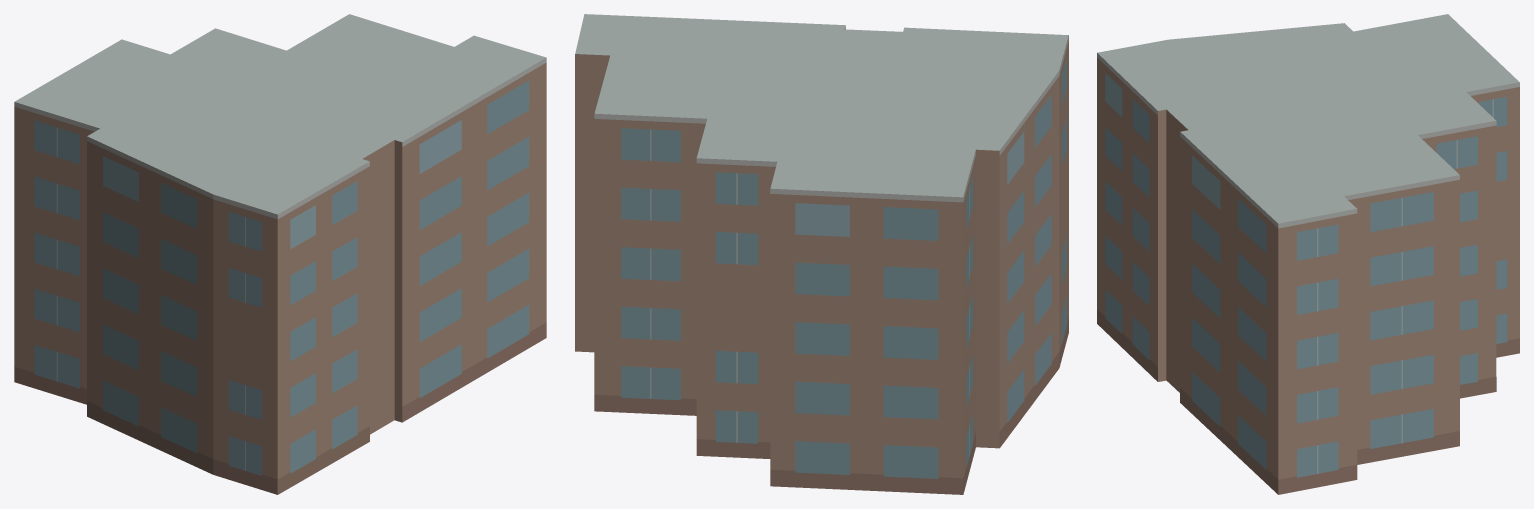
File: survey-upis-32934958.glb
3 views of the same model, side by side, from view 1: azimuth 30°, elevation 25°; view 2: azimuth 150°, elevation 25°; view 3: azimuth 270°, elevation 25° (orthographic). The views are drawn at different scales.
Visible parts, largest first — view 1: survey-upis-32934958.tmp; view 2: survey-upis-32934958.tmp; view 3: survey-upis-32934958.tmp.
Boxes of the visible parts, x1,y1,x2,y2 form: survey-upis-32934958.tmp: (14,14,546,494); survey-upis-32934958.tmp: (575,14,1068,494); survey-upis-32934958.tmp: (1097,14,1519,494).
Size of the model in its own units: 23.58 by 14.2 by 20.08.
